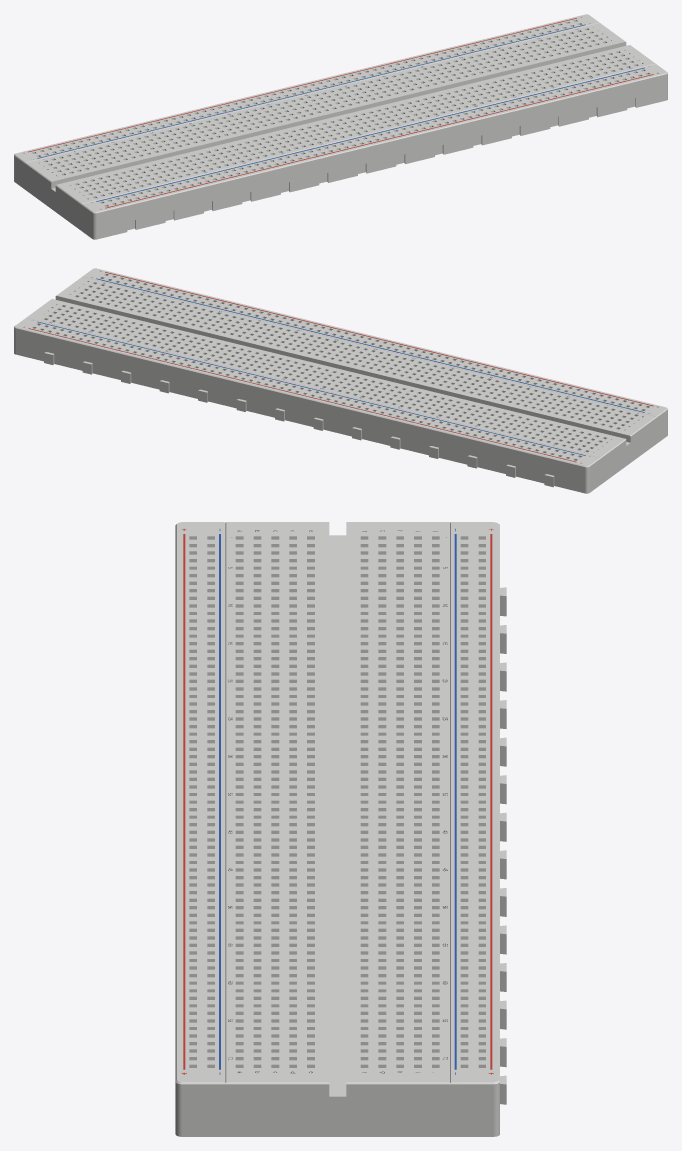
The model's file is breadboard.glb.
3 views of the same model, one above another, from view 1: azimuth 30°, elevation 25°; view 2: azimuth 150°, elevation 25°; view 3: azimuth 270°, elevation 25° (orthographic). The views are drawn at different scales.
Parts seen in each view (by area): view 1: breadboard; view 2: breadboard; view 3: breadboard.
Part boxes in pixels (left/top/right/bottom): breadboard: left=14, top=14, right=667, bottom=239; breadboard: left=14, top=268, right=667, bottom=493; breadboard: left=175, top=522, right=506, bottom=1136.
Bounding box in the file's own units: 189 × 8.54 × 47.12.
